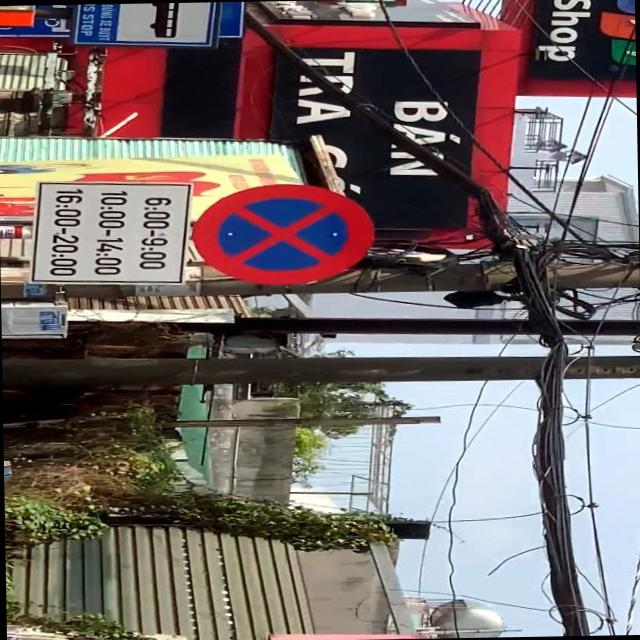P-130: (190, 182, 376, 284)
